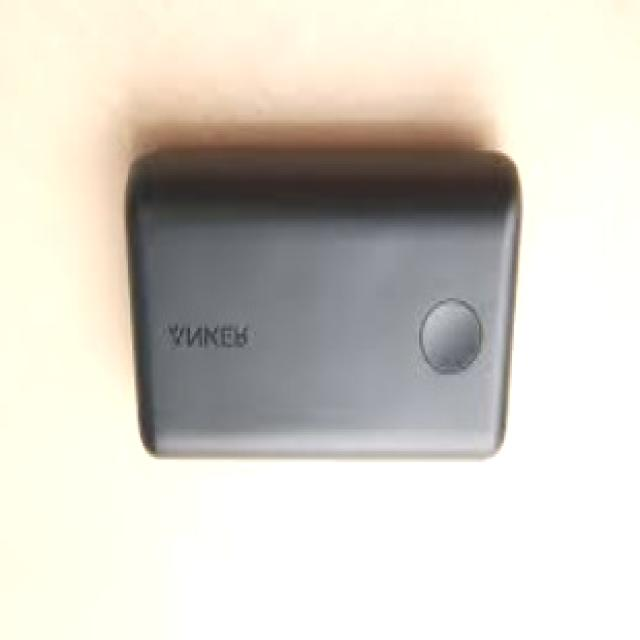B3: (128, 148, 520, 454)
elektronik: (94, 128, 550, 472)
